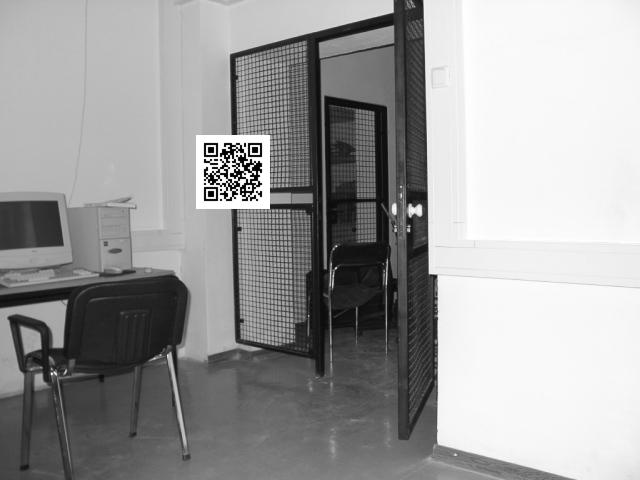qr_code: (198, 135, 269, 207)
